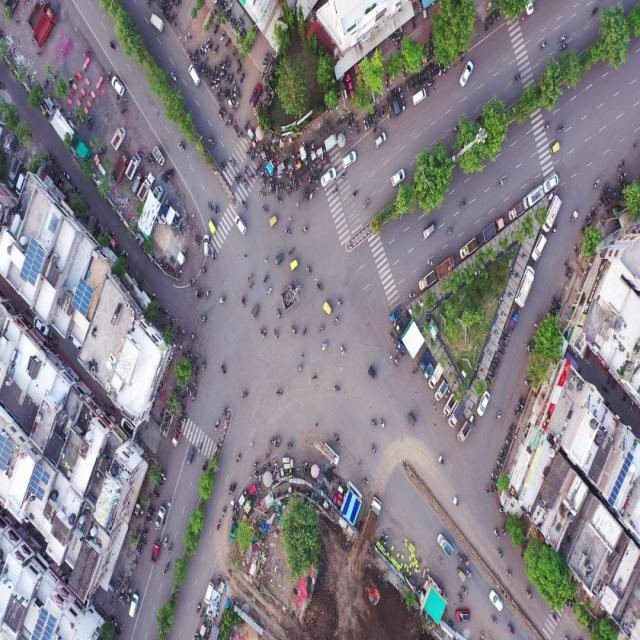3W: (548, 139, 561, 158), (366, 364, 378, 383), (407, 410, 419, 429), (321, 301, 334, 318), (275, 250, 286, 269), (250, 302, 261, 321), (288, 257, 300, 273), (268, 213, 280, 229), (186, 446, 195, 466), (456, 567, 466, 584), (208, 218, 217, 235)
Cars: (531, 234, 549, 263), (388, 165, 408, 187), (459, 59, 473, 90), (420, 218, 437, 242), (488, 591, 504, 613), (320, 168, 336, 188), (248, 82, 260, 108), (391, 89, 401, 120), (342, 150, 358, 169), (455, 607, 471, 626), (234, 216, 249, 236), (478, 391, 489, 417), (111, 77, 125, 97), (374, 132, 388, 152), (543, 175, 558, 192), (130, 591, 139, 619), (188, 66, 200, 85), (205, 579, 214, 604), (413, 90, 426, 106), (202, 233, 210, 258)
LCV: (515, 266, 536, 310), (543, 192, 562, 233), (523, 183, 544, 211), (436, 255, 456, 280), (138, 172, 154, 201), (108, 128, 127, 151), (450, 402, 465, 430), (126, 151, 140, 180), (437, 533, 453, 558), (419, 269, 436, 291), (323, 443, 339, 466), (460, 237, 477, 258), (429, 363, 442, 390), (130, 170, 143, 196), (444, 394, 457, 417), (153, 145, 167, 166), (434, 381, 447, 403), (324, 132, 338, 152), (150, 540, 162, 563), (151, 11, 164, 32), (395, 315, 409, 334), (155, 505, 165, 530), (459, 421, 471, 441), (509, 203, 523, 220), (419, 352, 431, 371), (395, 339, 407, 357), (391, 305, 401, 325), (509, 313, 519, 332), (172, 428, 182, 447), (423, 362, 434, 379)
M2W: (349, 187, 360, 202), (496, 547, 506, 562), (208, 133, 217, 149), (570, 210, 580, 224), (437, 453, 446, 468), (178, 140, 187, 155), (320, 338, 329, 352), (590, 4, 599, 17), (556, 122, 565, 135), (592, 177, 601, 190), (163, 560, 170, 576), (456, 552, 464, 566), (505, 568, 514, 580), (370, 417, 379, 429), (547, 307, 559, 316), (201, 459, 208, 474), (493, 526, 500, 541), (363, 199, 371, 212), (335, 296, 343, 309), (206, 201, 214, 214), (332, 384, 342, 394), (446, 227, 455, 238), (119, 104, 128, 115), (523, 378, 532, 389), (235, 451, 242, 465), (242, 177, 249, 191), (573, 245, 580, 259), (242, 119, 249, 133), (338, 345, 346, 357), (258, 189, 266, 201), (498, 178, 506, 190), (461, 584, 469, 596), (562, 257, 570, 269), (276, 307, 283, 320), (260, 326, 267, 339), (465, 568, 472, 581), (301, 225, 311, 234), (214, 202, 220, 217), (196, 601, 202, 616), (541, 123, 551, 132), (458, 201, 467, 211), (108, 41, 117, 51), (275, 194, 283, 205), (285, 226, 292, 238), (301, 326, 308, 338), (163, 534, 169, 548), (197, 441, 203, 455), (222, 405, 229, 417), (188, 276, 195, 288), (240, 198, 247, 210), (273, 327, 279, 341), (508, 623, 515, 635), (334, 315, 341, 327), (496, 409, 502, 423), (240, 390, 249, 399), (316, 283, 324, 293), (276, 387, 284, 397), (218, 295, 226, 305), (262, 273, 270, 283), (525, 590, 533, 600), (427, 67, 432, 83), (384, 78, 389, 94), (221, 363, 227, 376), (240, 296, 246, 309), (210, 247, 216, 260), (380, 417, 386, 430), (177, 412, 183, 425), (219, 30, 225, 43), (212, 23, 218, 36), (239, 72, 245, 85), (236, 88, 242, 101), (550, 295, 556, 308), (513, 407, 519, 420), (513, 72, 520, 83), (560, 32, 567, 43), (490, 614, 497, 625), (216, 518, 221, 533), (211, 64, 216, 79), (405, 81, 410, 96), (332, 186, 338, 198), (305, 264, 311, 276), (298, 361, 304, 373), (227, 483, 233, 495), (167, 542, 173, 554), (200, 314, 208, 323), (229, 159, 237, 168), (560, 42, 568, 51), (457, 592, 463, 604), (463, 554, 469, 566), (151, 491, 160, 499), (186, 385, 192, 397), (507, 424, 516, 432), (499, 342, 507, 351), (402, 99, 406, 117), (290, 325, 297, 335), (221, 162, 228, 172), (266, 286, 273, 296), (361, 477, 368, 487), (170, 71, 177, 81), (318, 325, 325, 335), (232, 174, 238, 185), (370, 444, 376, 455), (107, 70, 113, 81), (186, 50, 192, 61), (221, 504, 226, 517), (214, 419, 219, 432), (333, 431, 338, 444), (385, 97, 390, 110), (355, 125, 360, 138), (346, 118, 351, 131), (493, 11, 497, 27), (289, 247, 296, 256), (539, 41, 546, 50), (145, 516, 152, 525), (490, 473, 499, 480), (490, 479, 499, 486), (493, 355, 500, 364), (192, 389, 197, 401), (202, 357, 206, 372), (205, 288, 211, 298), (394, 356, 399, 368), (138, 149, 144, 159), (85, 114, 90, 126), (225, 39, 231, 49), (232, 49, 238, 59), (223, 55, 229, 65), (298, 176, 303, 188), (484, 19, 488, 34), (431, 64, 435, 79), (410, 76, 414, 91), (381, 105, 385, 120), (377, 109, 381, 124), (233, 480, 237, 494), (476, 231, 480, 245), (408, 291, 416, 298), (120, 97, 127, 105), (489, 365, 496, 373), (489, 15, 493, 29), (436, 61, 440, 75), (424, 70, 428, 84), (418, 74, 422, 88), (88, 119, 93, 130), (205, 37, 210, 48), (237, 63, 242, 74), (217, 61, 223, 70), (507, 431, 513, 440), (428, 80, 434, 89), (227, 59, 231, 72), (309, 187, 313, 200), (319, 161, 323, 174), (260, 171, 264, 184), (251, 150, 255, 163), (421, 73, 425, 86), (364, 118, 368, 131), (237, 172, 242, 182), (193, 49, 198, 59), (217, 87, 222, 97), (222, 86, 227, 96), (256, 164, 261, 174), (262, 207, 269, 214), (148, 506, 155, 513), (497, 350, 504, 357), (312, 373, 318, 381), (214, 45, 220, 53), (228, 113, 232, 125), (212, 79, 216, 91), (207, 68, 211, 80), (566, 267, 574, 273), (491, 487, 497, 495), (495, 465, 501, 473), (415, 74, 418, 90), (373, 121, 377, 133), (350, 112, 353, 127), (369, 116, 373, 127), (142, 529, 148, 536), (145, 156, 151, 163), (200, 45, 207, 51), (302, 196, 308, 203), (303, 189, 309, 196), (565, 272, 571, 279), (518, 403, 524, 410), (496, 461, 503, 467), (150, 153, 154, 163), (229, 73, 233, 83), (226, 73, 230, 83), (281, 183, 285, 193), (288, 187, 292, 197), (316, 172, 319, 185), (313, 170, 316, 183), (373, 106, 376, 119), (226, 88, 230, 97), (216, 78, 220, 87), (199, 49, 205, 55), (278, 182, 281, 194), (269, 184, 272, 196), (505, 439, 511, 445), (141, 540, 146, 547), (499, 455, 504, 462), (233, 80, 236, 91), (273, 182, 276, 193), (275, 183, 278, 194), (294, 182, 297, 192), (262, 177, 265, 187), (503, 446, 508, 452), (434, 63, 436, 76)
Truck: (104, 146, 135, 188), (360, 492, 383, 547), (32, 7, 58, 49)
